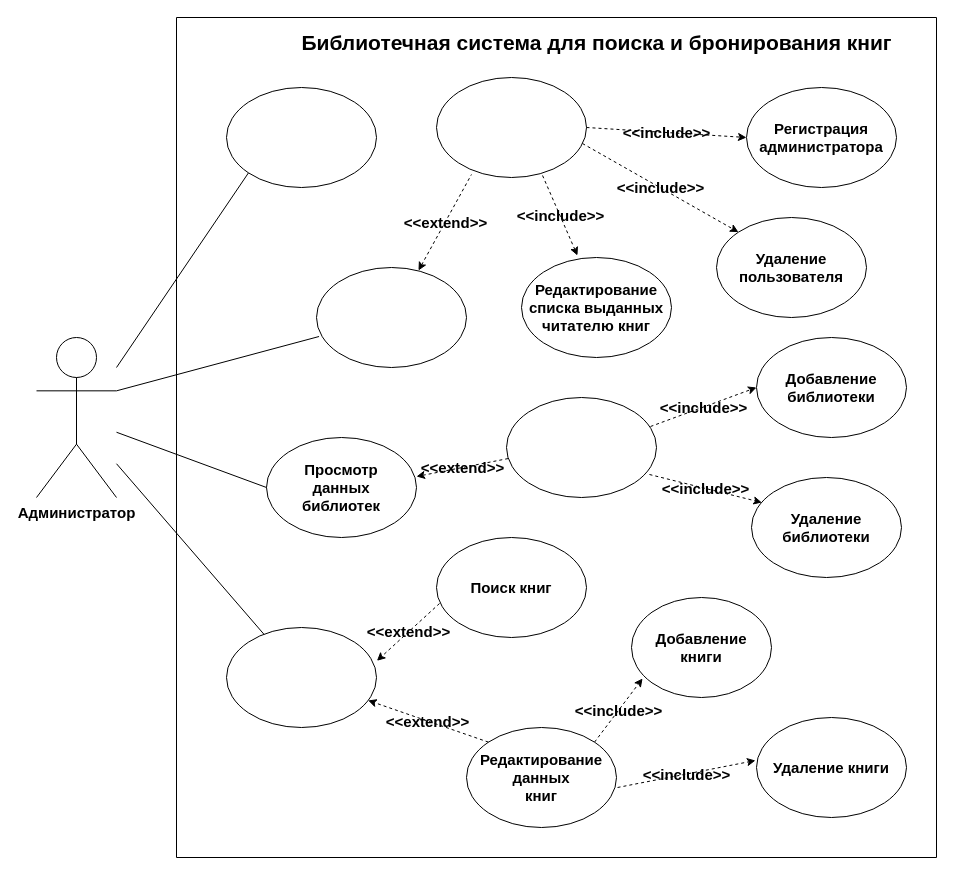
This 954x875 diagram has some shape labels left out. The centre of each missing label's shape, as x and y in pixels:
"Просмотр данных книг" goes at point (301, 677).
"Просмотр данных пользователей" goes at point (391, 317).
"Просмотр статистики системы" goes at point (301, 137).
"Редактирование данных библиотек" goes at point (581, 447).
"Редактирование данных пользователей" goes at point (511, 127).
